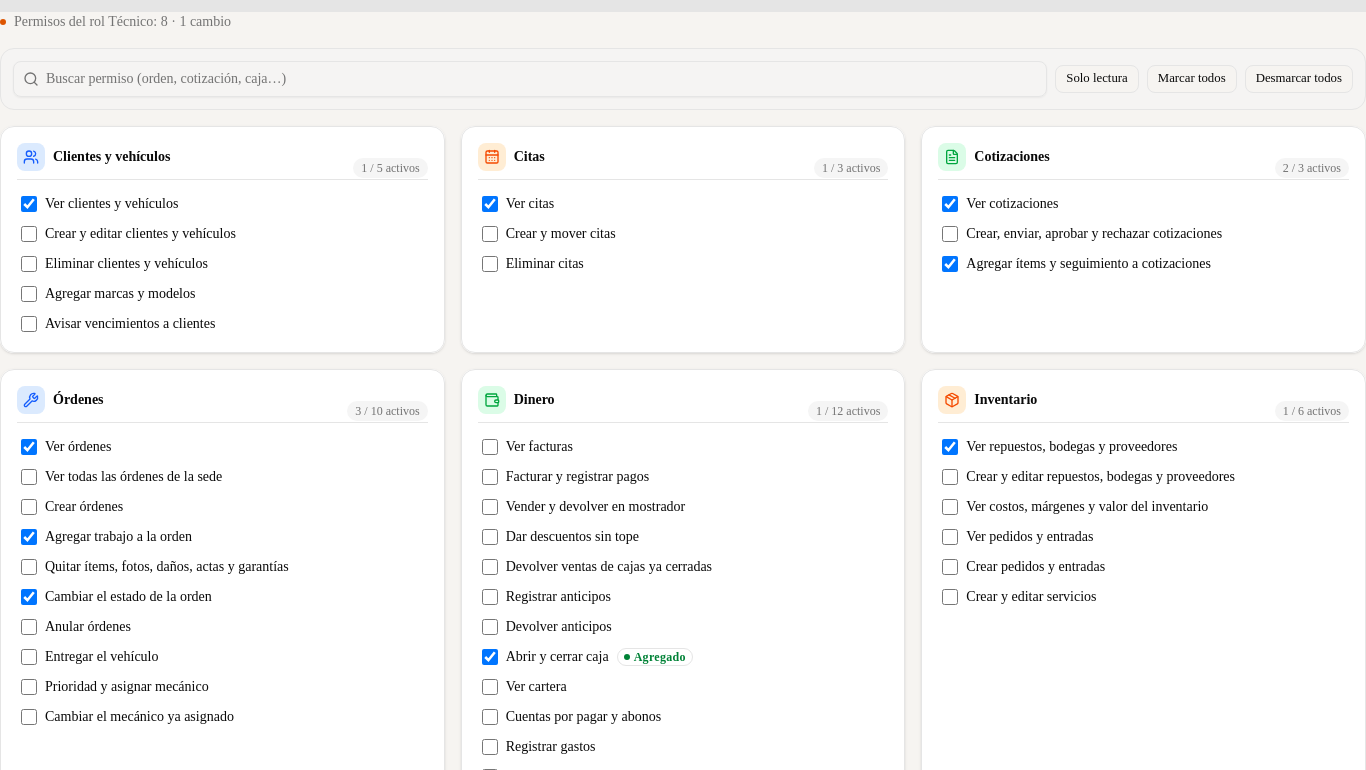
Test: PermisosUsuario › tarjetas, buscador y acciones masivas (rediseño, tarea 3) › muestra el aviso del rol y el contador de cada grupo, que cambia al marcar
The image size is (1366, 770).
Expected: the text "1 / 12 activos" is shown, [808,401,888,421]
Step 1. Click the checkbox labelled "Ver cartera" → (490, 687), box [482,679,498,695]
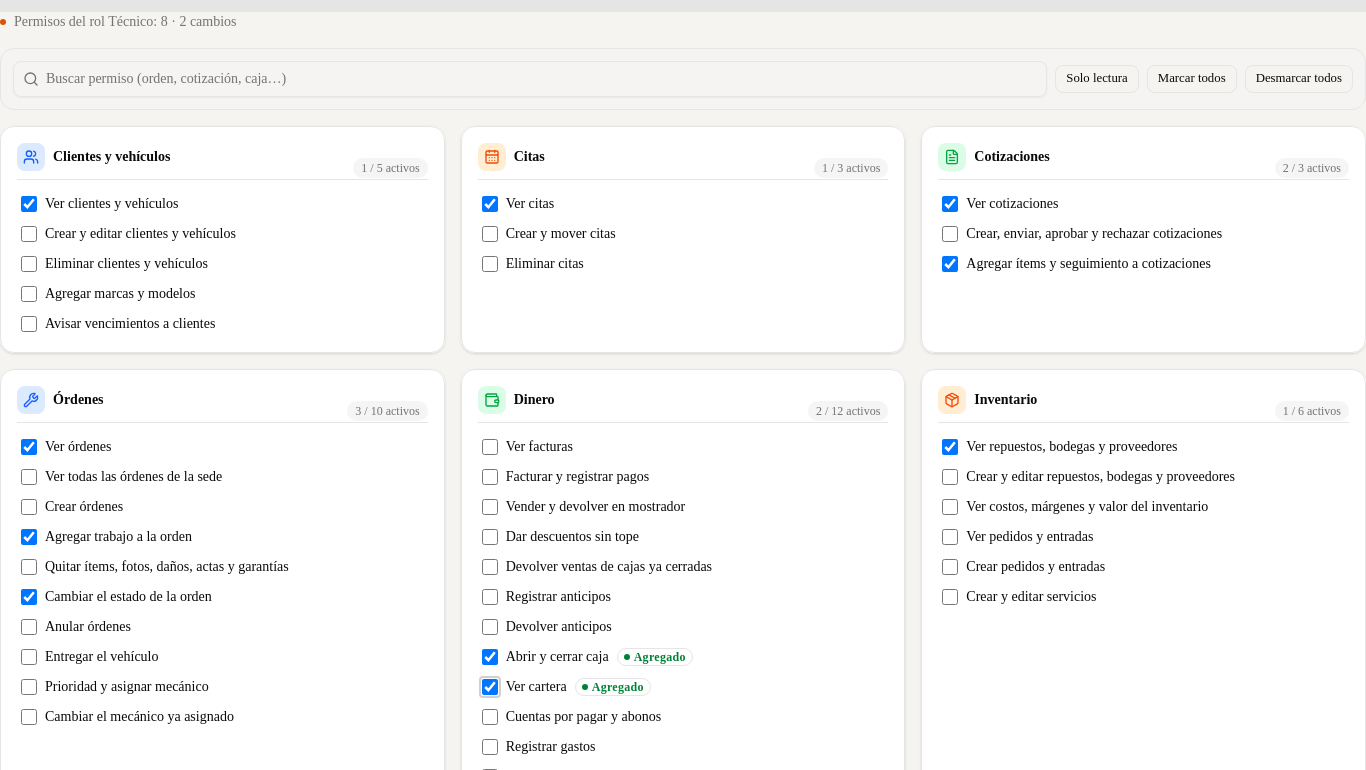
Expected: the text "2 / 12 activos" is shown, [808,401,888,421]
